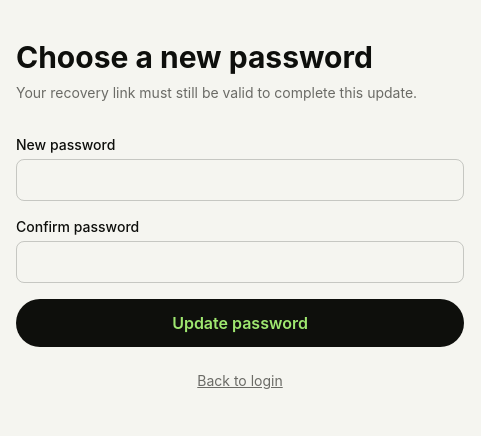
it: ResetPasswordPage › rejects mismatched passwords
Type "new-password-123" into the password field labelled "New password" at (240, 180), box left=16, top=159, right=464, bottom=201
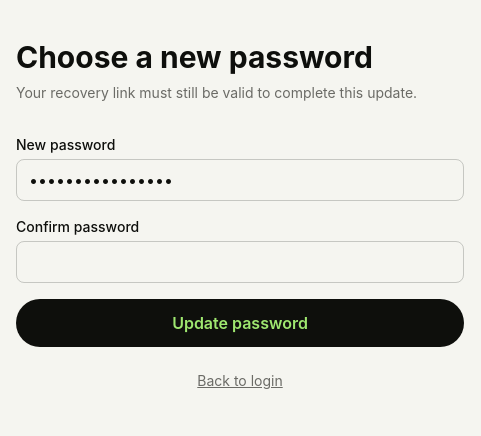
Type "different-123" into the password field labelled "Confirm password" at (240, 262), box left=16, top=241, right=464, bottom=283
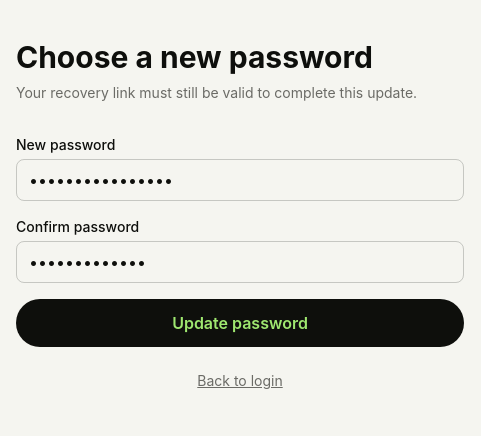
Click the button "Update password" at (240, 323), box left=16, top=299, right=464, bottom=347
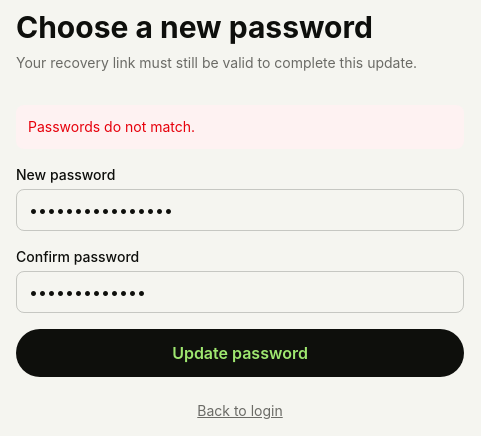
Expected: the text "Passwords do not match." is shown, left=16, top=105, right=464, bottom=149
